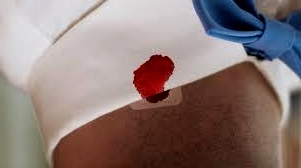blood: (132, 54, 175, 95)
